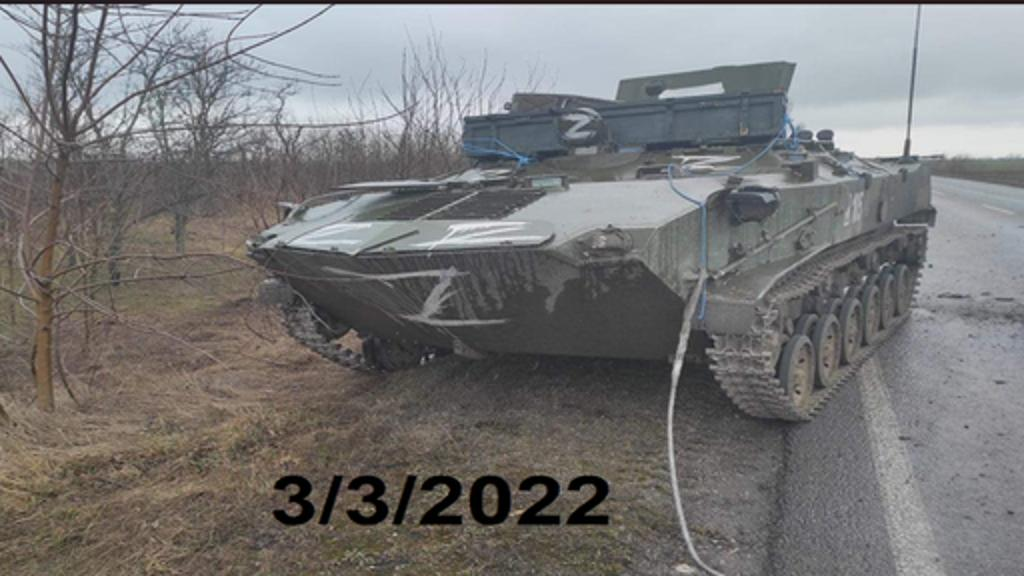APC-IFV: (248, 58, 944, 420)
